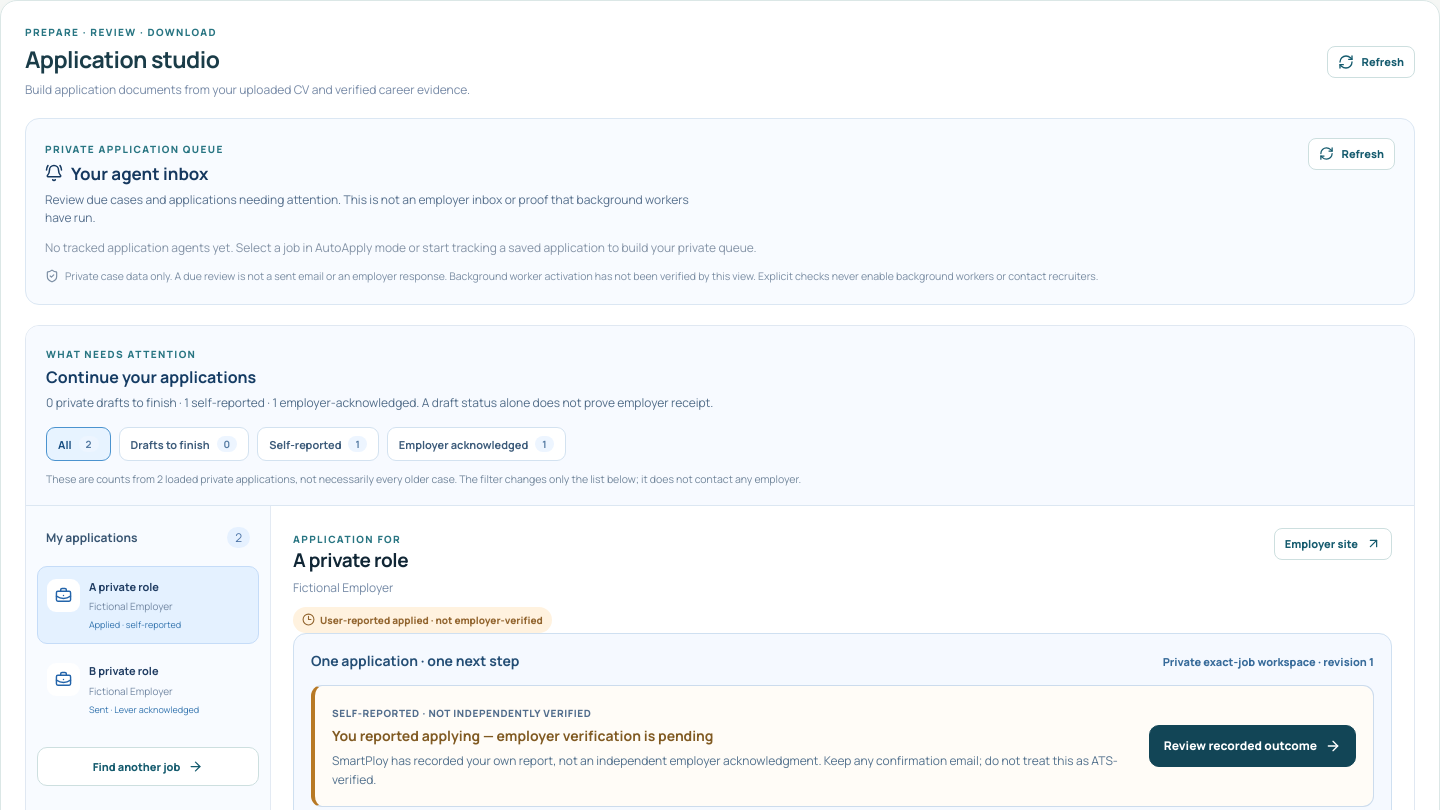
Test: Application Studio private-read account boundary › SP72: no private draft category shows a safe empty state, not a submit option
Expected: the heading "A private role" is shown, [293,547,408,573]
Expected: the element named "Application review queue" shows "0 private drafts to finish", [26,326,1414,506]
Step 1. Click the button "Drafts to finish 0" → (184, 444), box [118,427,249,461]
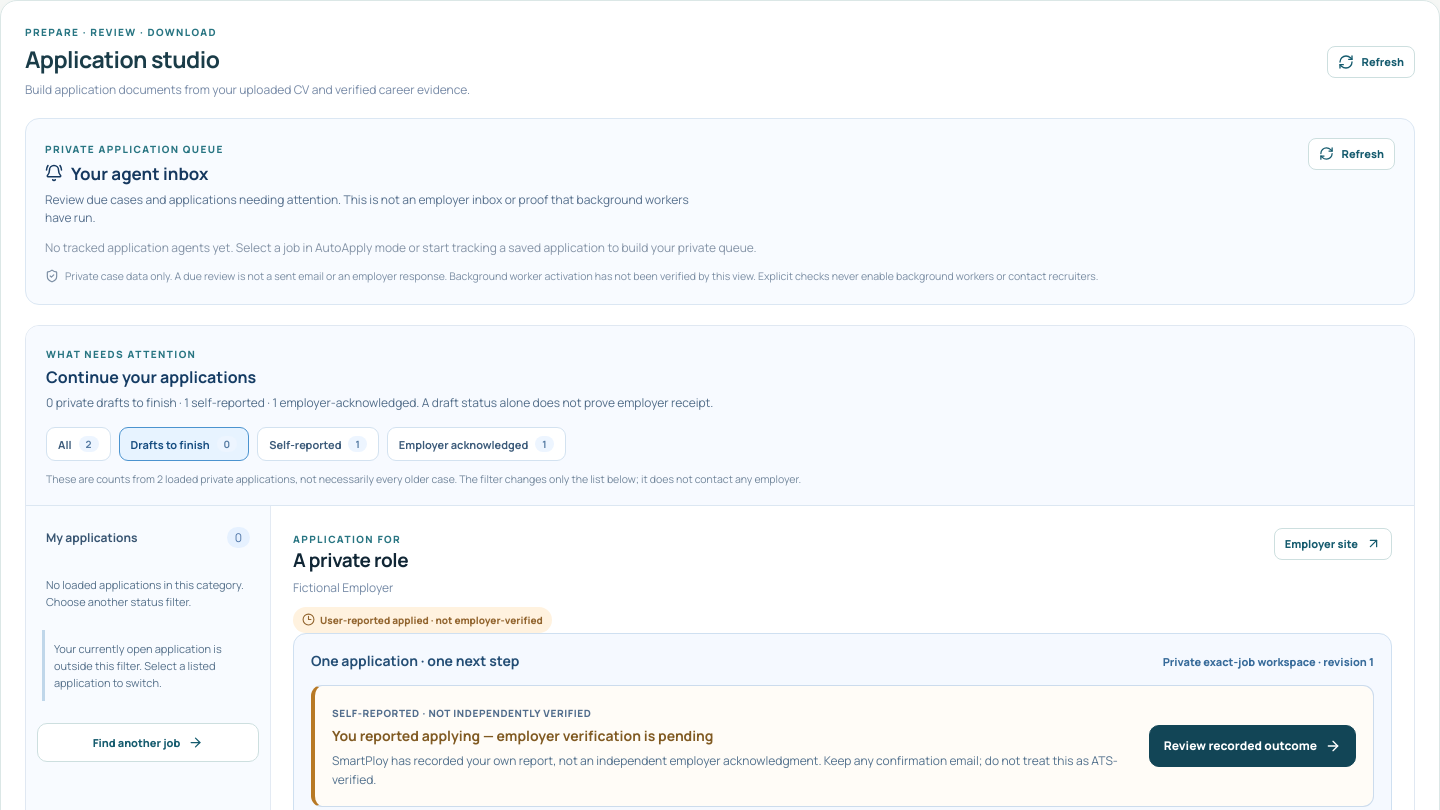
Result: the text "No loaded applications in this category. Choose another status filter." is shown at [46,577,244,609]
